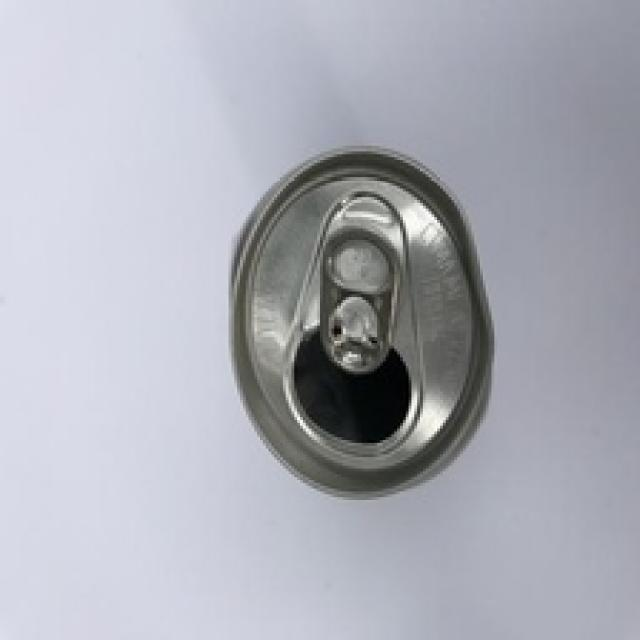recyclable: (230, 145, 494, 500)
